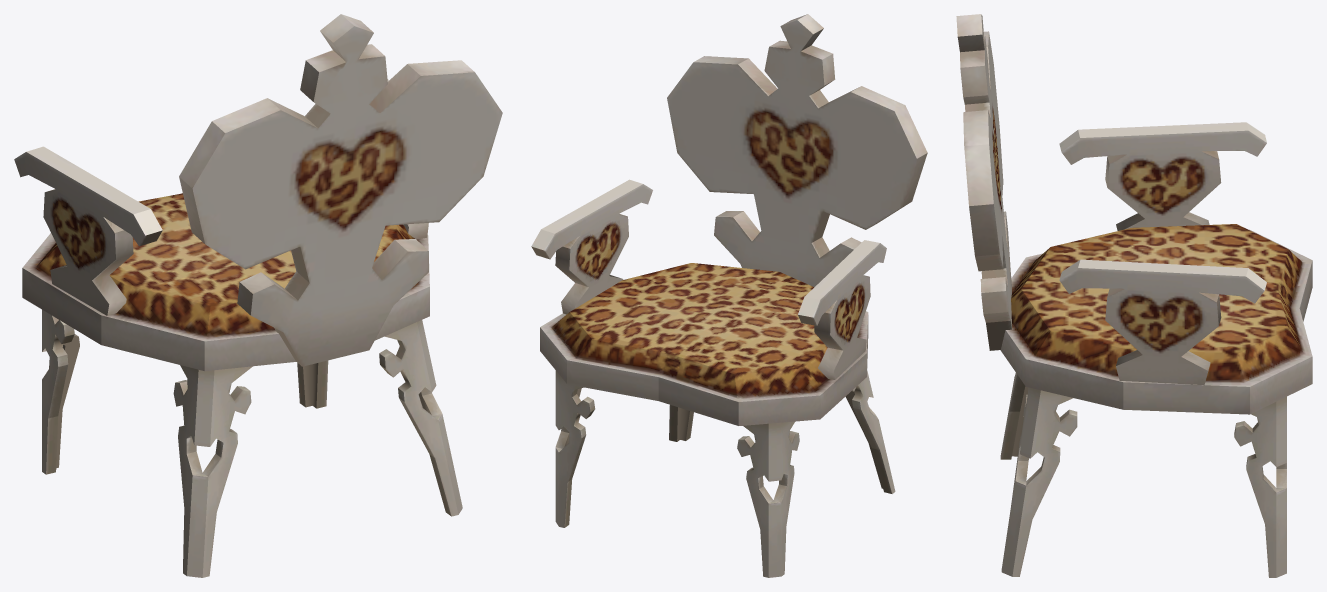
File: furni_0200079.FBX
3 renders of one model, left to right at view 1: azimuth 30°, elevation 25°; view 2: azimuth 150°, elevation 25°; view 3: azimuth 270°, elevation 25°, orthographic. The views are drawn at different scales.
Parts seen in each view (by area): view 1: furni_0200079; view 2: furni_0200079; view 3: furni_0200079.
Part boxes in pixels (x1,y1,x2,y2): furni_0200079: (14, 14, 502, 577); furni_0200079: (531, 14, 927, 577); furni_0200079: (956, 14, 1312, 577).
Size of the model in its own units: 67.75 by 99.68 by 64.29.
